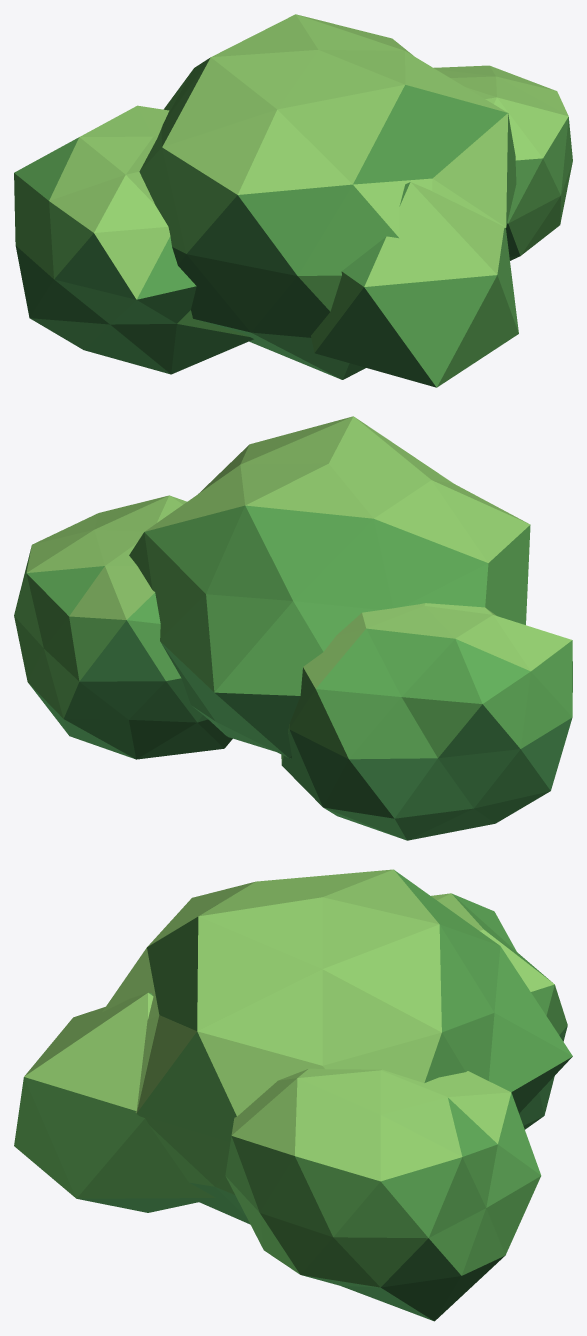
Rendered from bush_a.glb.
The picture shows the model from 3 angles, top to bottom: view 1: azimuth 30°, elevation 25°; view 2: azimuth 150°, elevation 25°; view 3: azimuth 270°, elevation 25°; orthographic projection. The views are drawn at different scales.
Parts seen in each view (by area): view 1: bush_a; view 2: bush_a; view 3: bush_a.
Boxes of the visible parts, x1,y1,x2,y2 form: bush_a: (14, 14, 572, 387); bush_a: (14, 416, 572, 840); bush_a: (14, 869, 572, 1321).
Size of the model in its own units: 1.84 by 0.9632 by 1.54.
